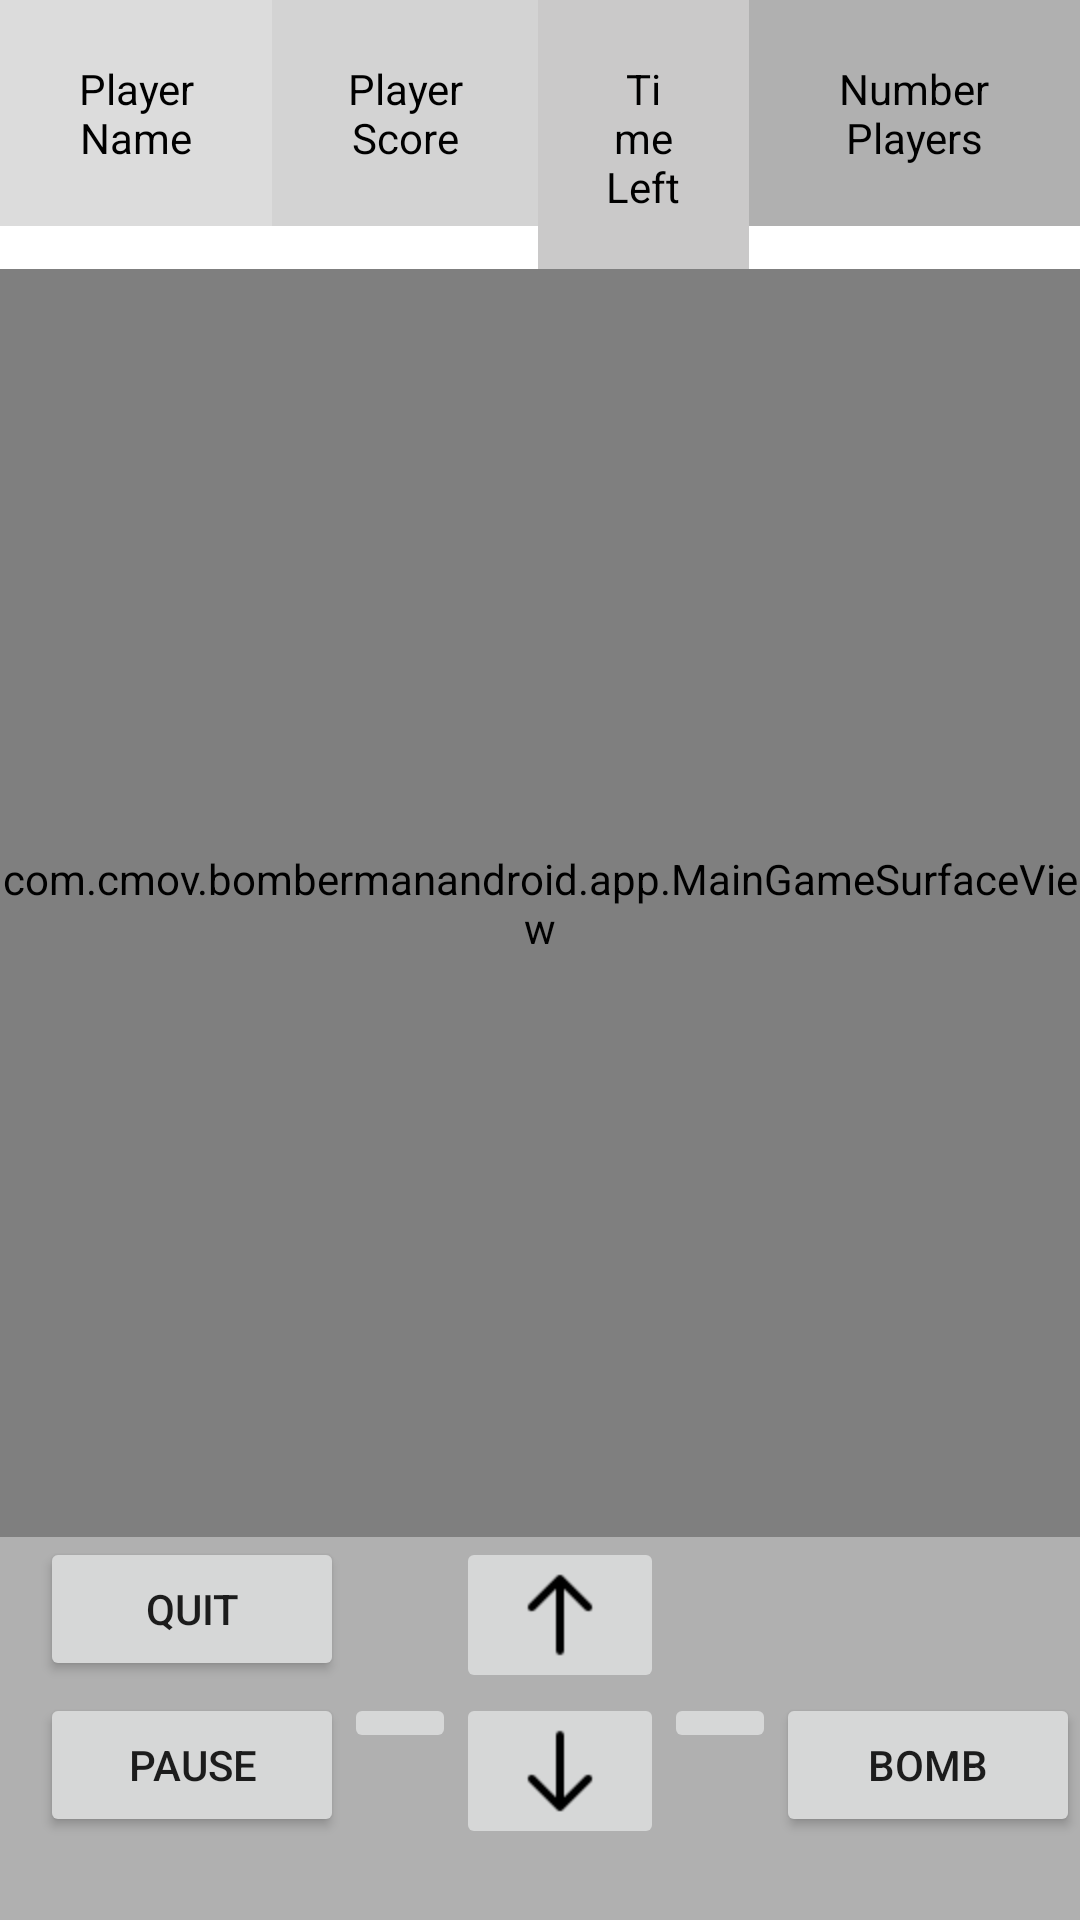

Locate icon controls on the screen. Image size 1080x1920, boxes as rect(x1, y1, x2, y2).
arrow down: rect(468, 1711, 652, 1831)
arrow up: rect(468, 1555, 652, 1675)
